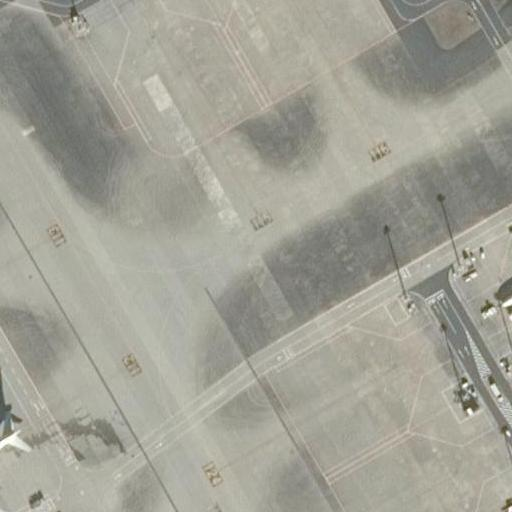Aircraft: (0, 393, 31, 512), (482, 237, 512, 320)
